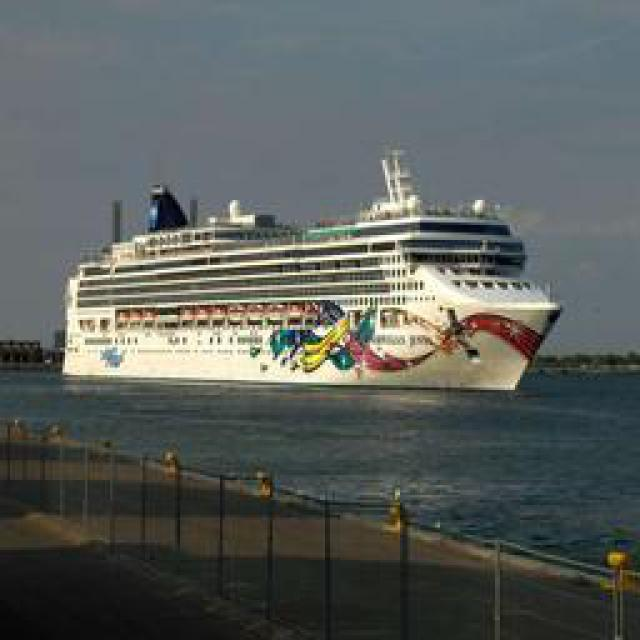Ship: (56, 159, 564, 392)
